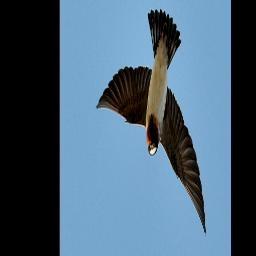Swallow: (96, 8, 207, 238)
